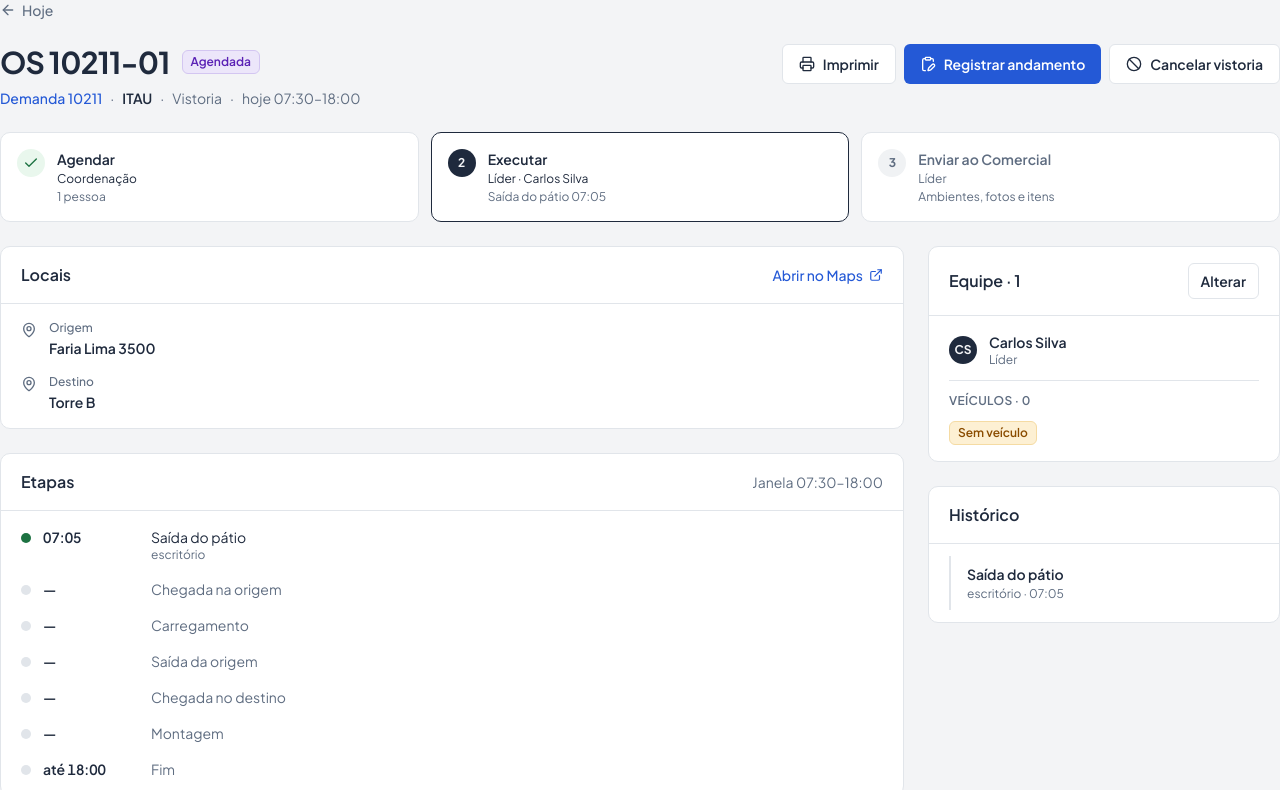
Test: cancelar a vistoria (pergunta 58) › Voltar fecha o painel sem gravar
This screenshot has width=1280, height=790.
Click the button "Cancelar vistoria": [1195, 64] box [1109, 44, 1279, 84]
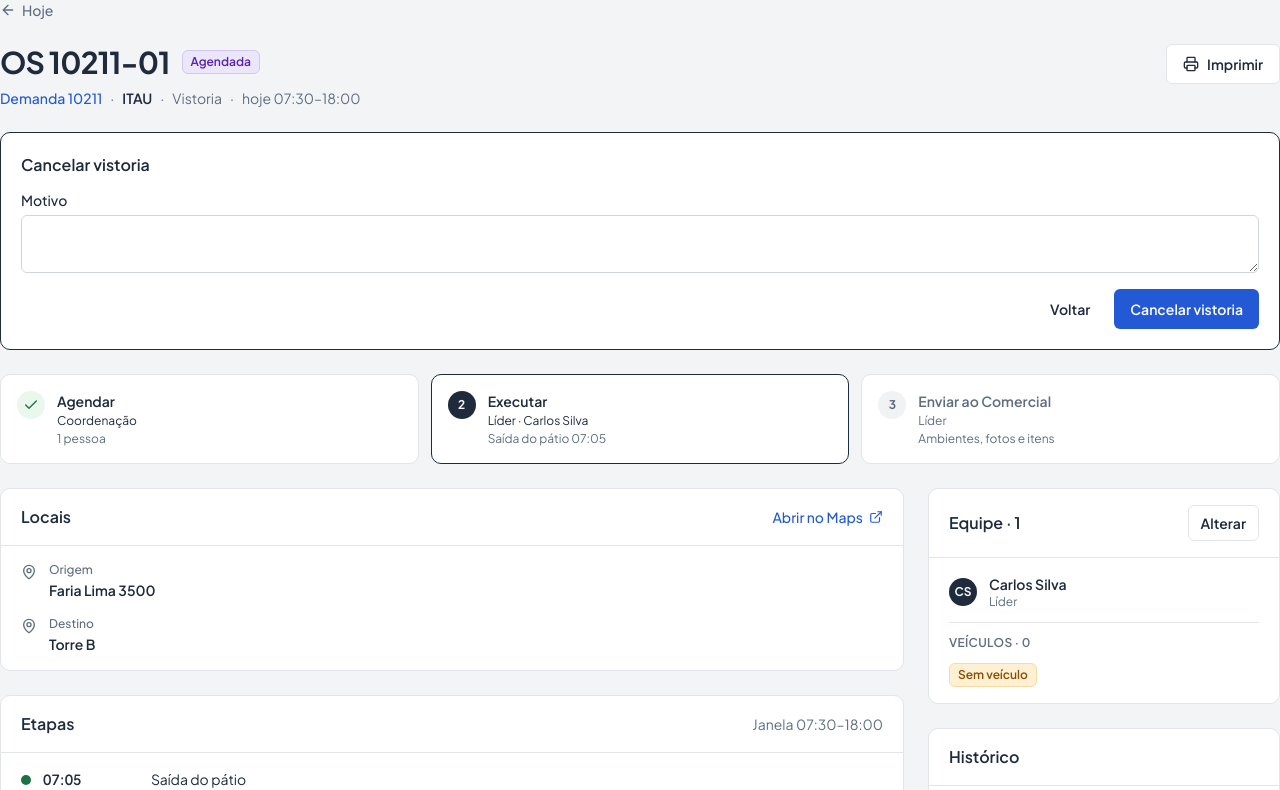
Click the button "Voltar": [1070, 309] box [1034, 289, 1106, 329]
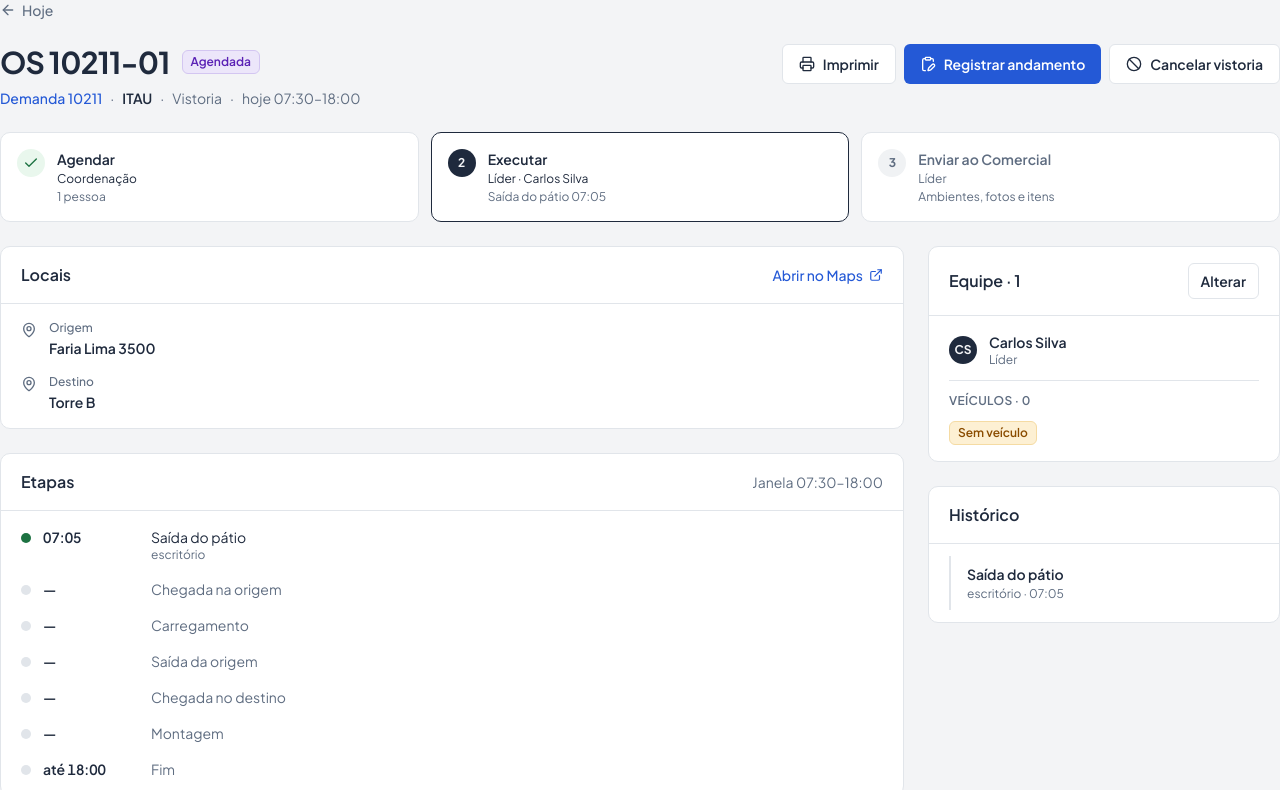
Result: the text box is gone
